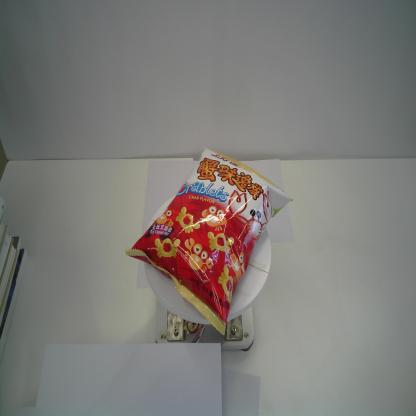Puffed Food: (125, 145, 293, 335)
